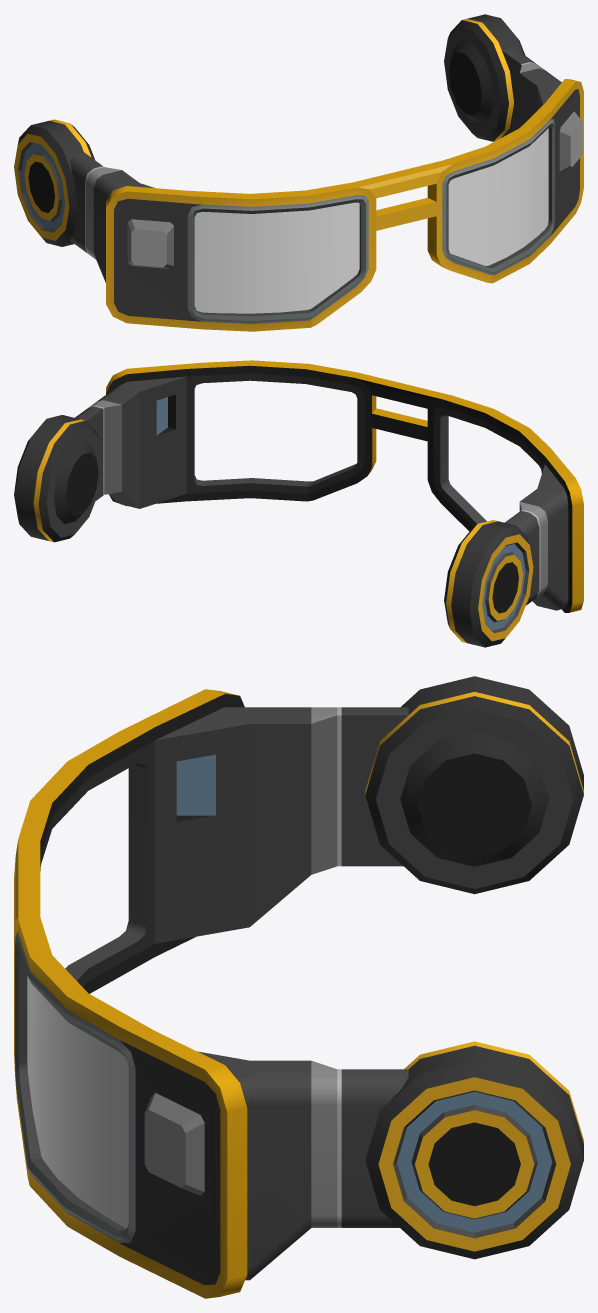
Rendered from 矿物扫描眼镜_网格.glb.
The picture shows the model from 3 angles, top to bottom: view 1: azimuth 30°, elevation 25°; view 2: azimuth 150°, elevation 25°; view 3: azimuth 270°, elevation 25°; orthographic projection. The views are drawn at different scales.
Visible parts, largest first — view 1: ItemSensorLenses, ItemSensorLensesGlass; view 2: ItemSensorLenses; view 3: ItemSensorLenses, ItemSensorLensesGlass.
Boxes of the visible parts, <box> form: ItemSensorLenses: <box>14,14,583,331</box>; ItemSensorLensesGlass: <box>194,128,548,313</box>; ItemSensorLenses: <box>14,360,583,647</box>; ItemSensorLenses: <box>14,676,583,1298</box>; ItemSensorLensesGlass: <box>27,976,128,1228</box>.
Bounding box in the file's own units: 0.204 × 0.0564 × 0.1213.
Materials: 3 (2 with a texture image).
